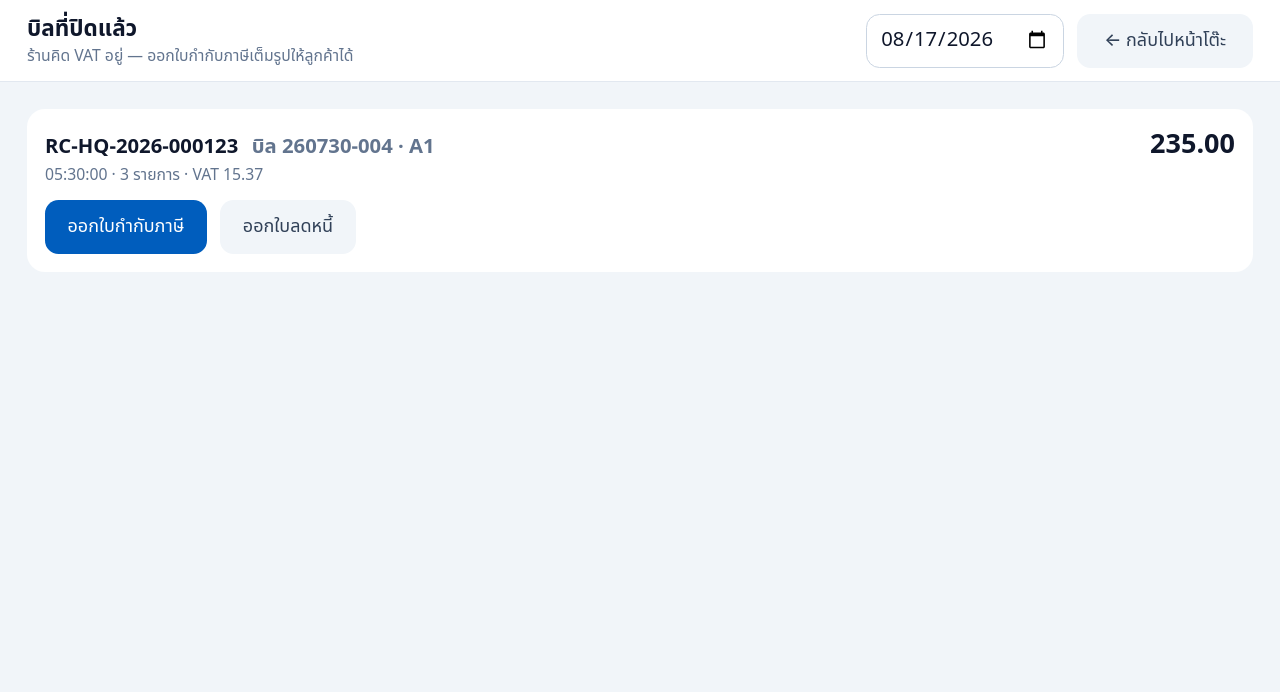
Test: reversing a paid bill › will not move past the reason without one, and always asks for a PIN
Expected: the text "RC-HQ-2026-000123" is shown, [45,132,238,162]
Click the button "ออกใบลดหนี้". click: click(288, 226)
box: [220,200,356,254]
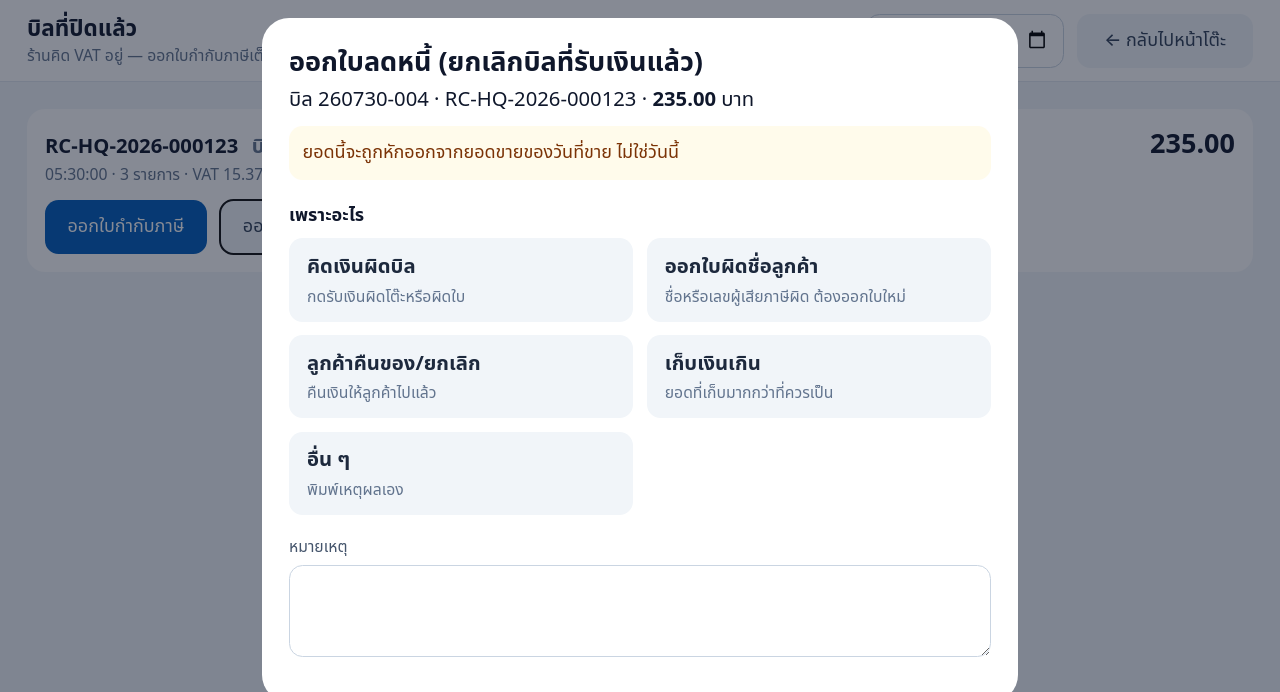
Click the text "คิดเงินผิดบิล". click: click(361, 268)
box: [307,252,416,284]
(page scrolled)
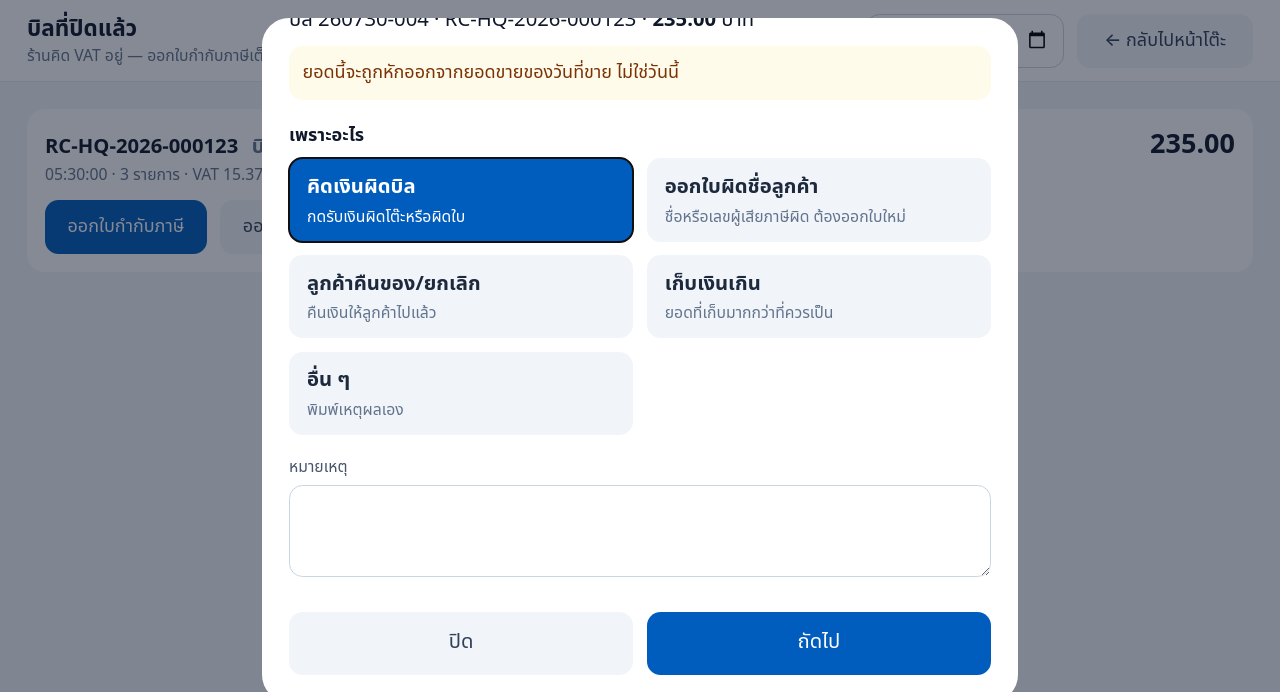
Click the button "ถัดไป". click: click(819, 643)
box: [647,612,991,675]
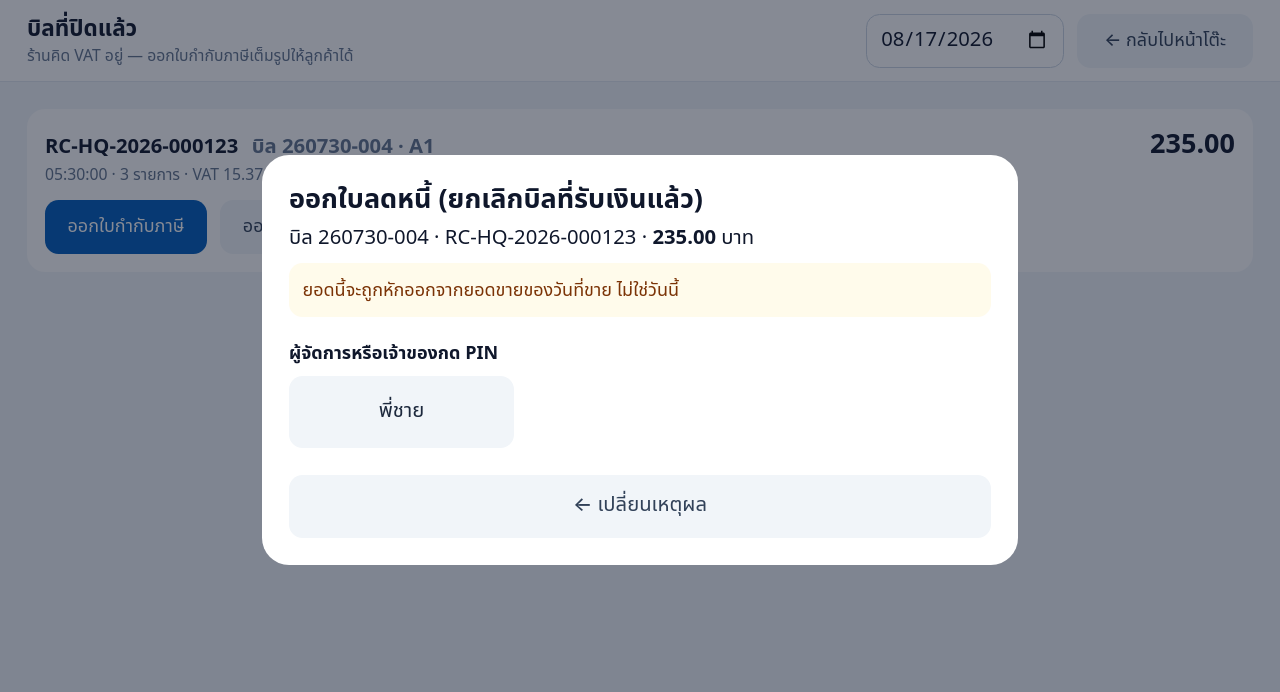
Expected: the heading "ผู้จัดการหรือเจ้าของกด PIN" is shown, [289,340,498,367]
